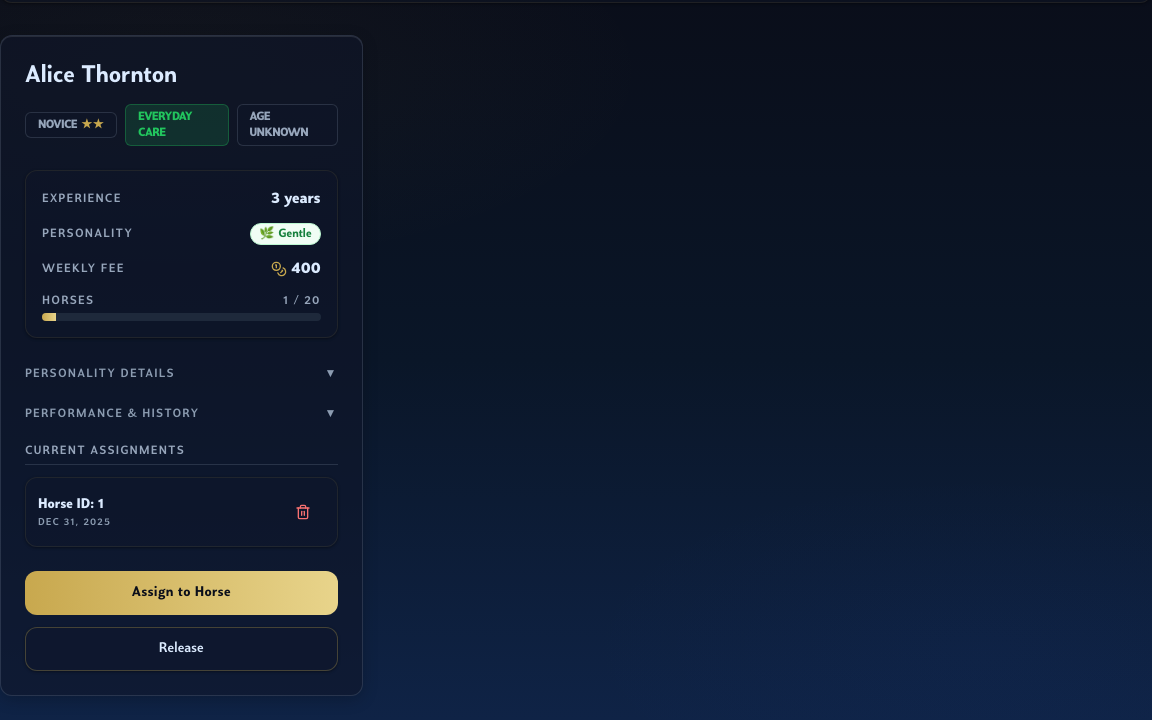
Test case: MyGroomsDashboard — Release (q299) › a single hired groom, with plenty of room on the roster, still offers Release; one click releases it, with no confirmation
The image size is (1152, 720).
(page scrolled)
Click the button with aria-label "Release Alice Thornton" at (181, 649), box [25,627,338,671]
(page scrolled)
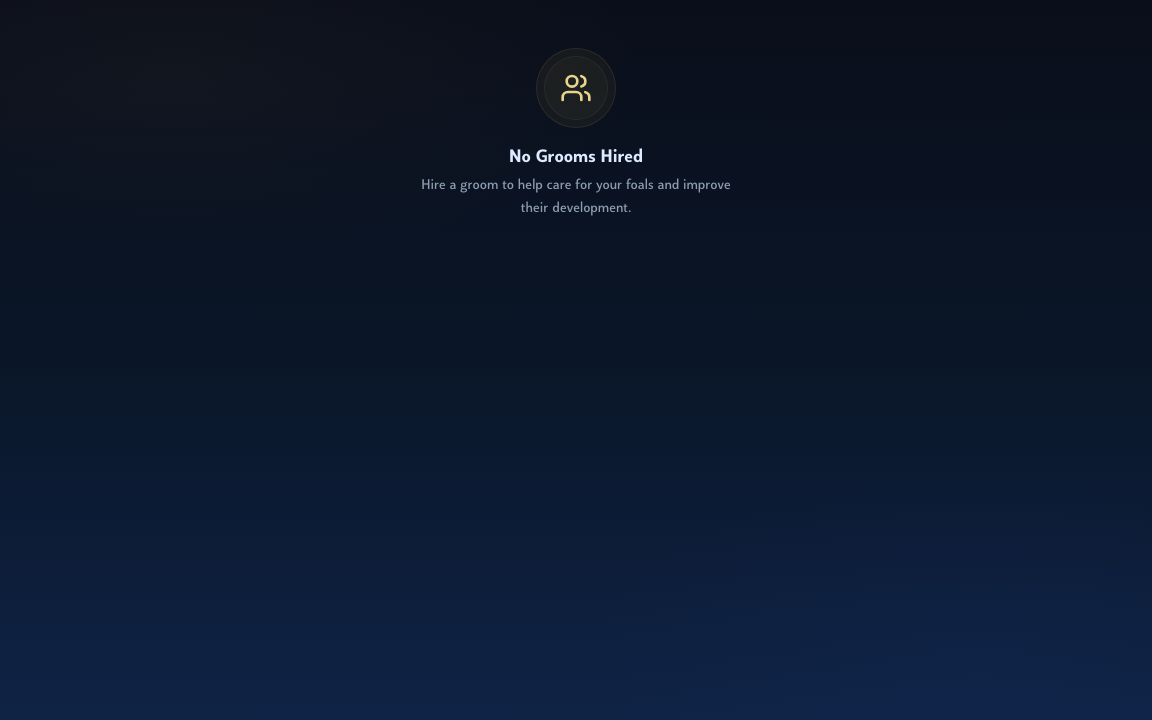
Expected: the heading "No Grooms Hired" is shown, [509,144,643,171]
